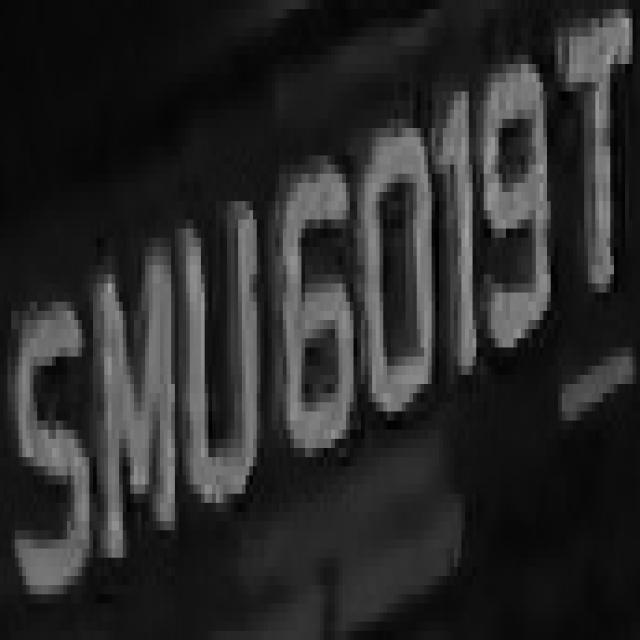0: (346, 91, 439, 439)
1: (435, 73, 484, 393)
6: (272, 164, 350, 476)
9: (484, 28, 554, 393)
M: (100, 238, 178, 576)
S: (19, 265, 93, 613)
T: (554, 27, 636, 366)
U: (182, 192, 272, 530)
